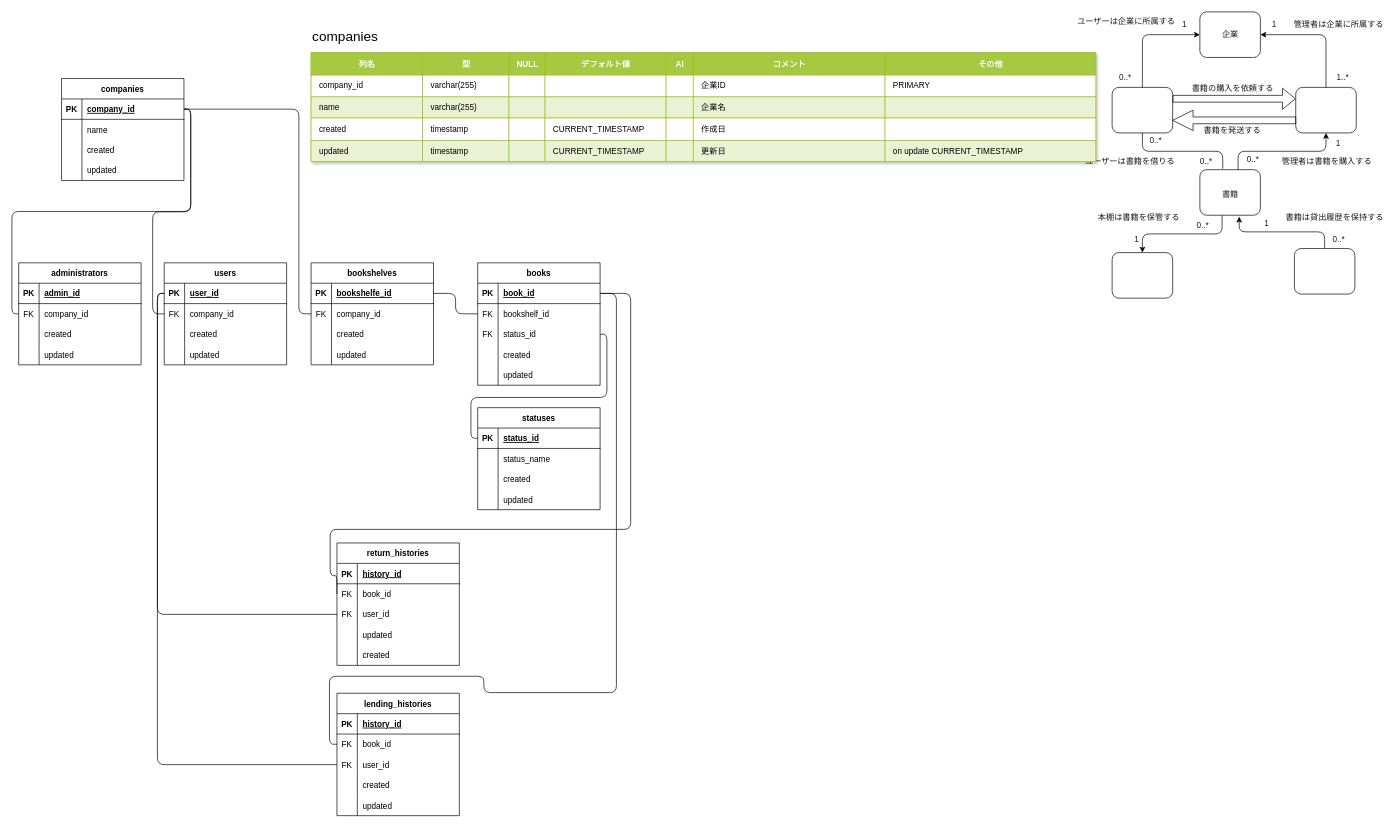
The diagram is 1399 pixels wide and 828 high, and some of its shapes have lost their labels. The centre of each missing label's shape, as x and y in pixels:
"ユーザー" belongs at [1142,110].
"本棚" belongs at [1142,275].
"管理者" belongs at [1325,110].
"貸出履歴" belongs at [1324,271].
